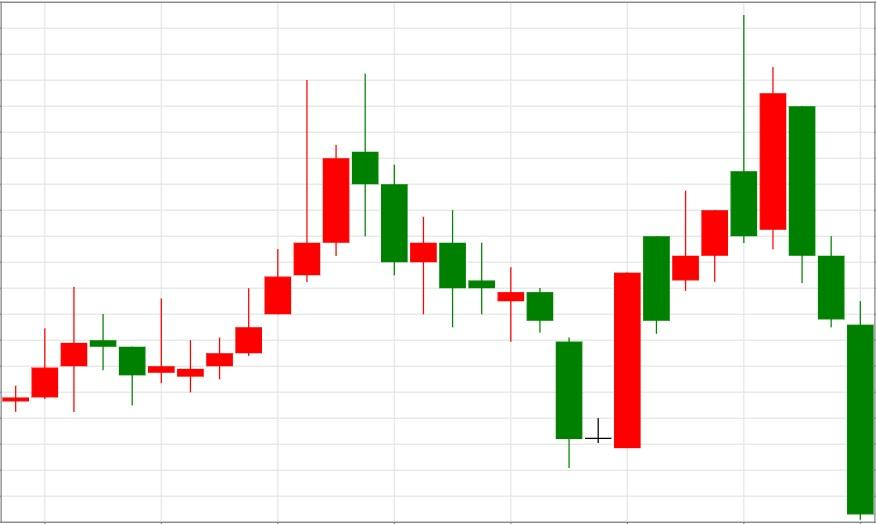morning_star_rise: (351, 72, 642, 467)
three_white_soldiers_rise: (89, 287, 263, 406)
